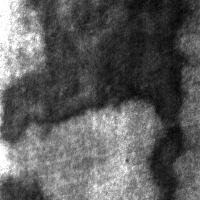patches: (1, 1, 160, 129), (16, 108, 108, 200), (144, 1, 192, 130), (148, 122, 188, 197), (1, 170, 44, 199)
